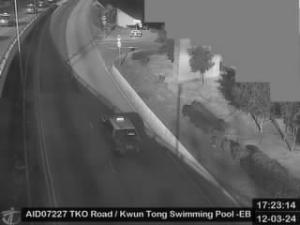vehicle: (105, 115, 143, 158), (1, 13, 16, 27), (26, 4, 36, 14), (38, 2, 44, 6)
